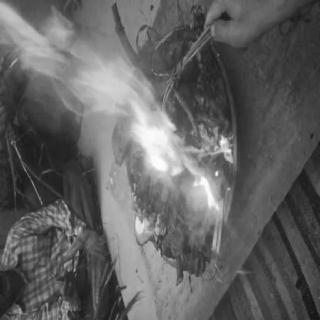Fire: (213, 131, 235, 163)
